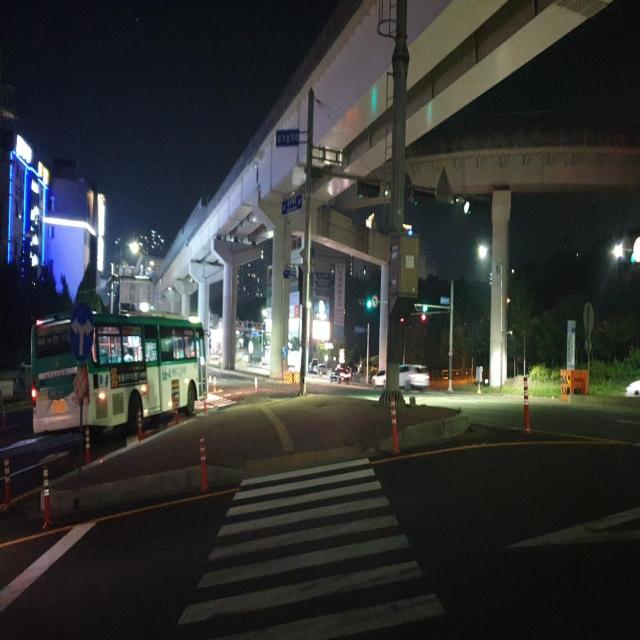횡단보도: (175, 454, 448, 640)
